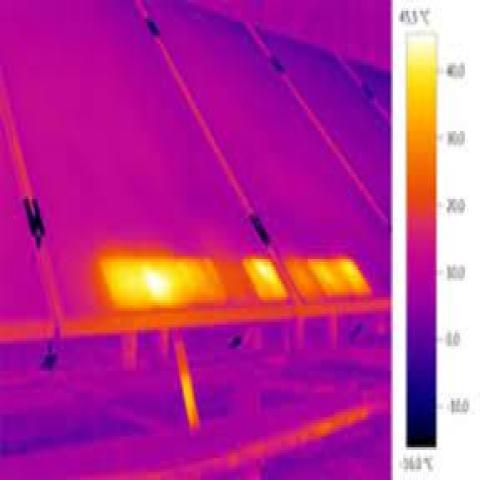fault: (102, 259, 219, 306), (294, 259, 370, 297), (243, 256, 286, 303)
